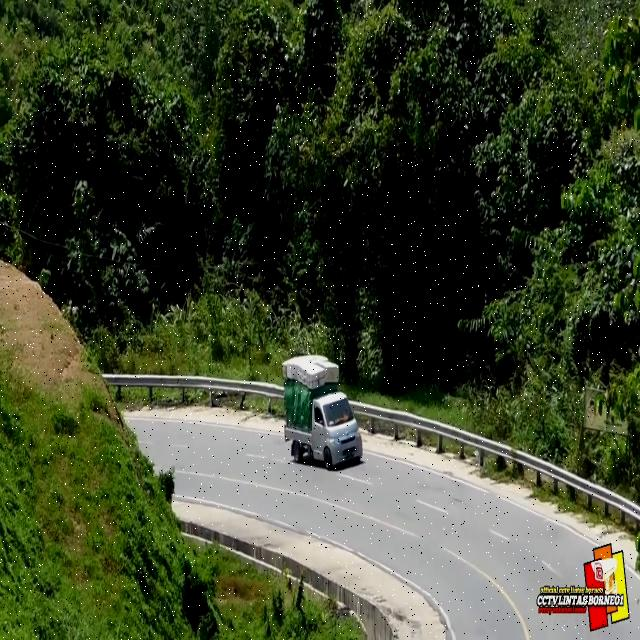Golongan IVB: (284, 395, 362, 470)
